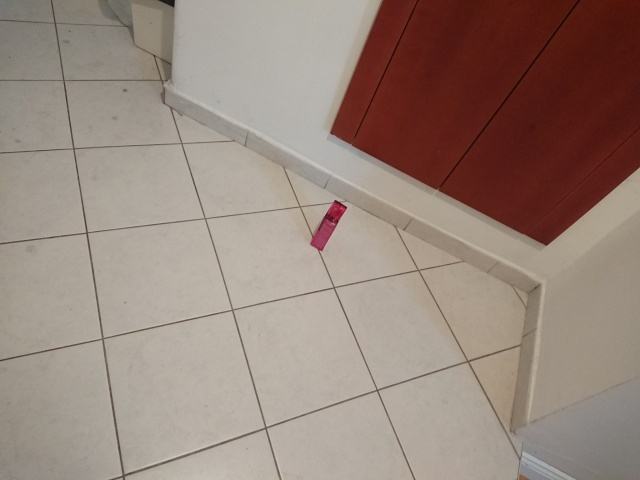Barcaffe Classic Original 225g: (308, 198, 348, 253)
